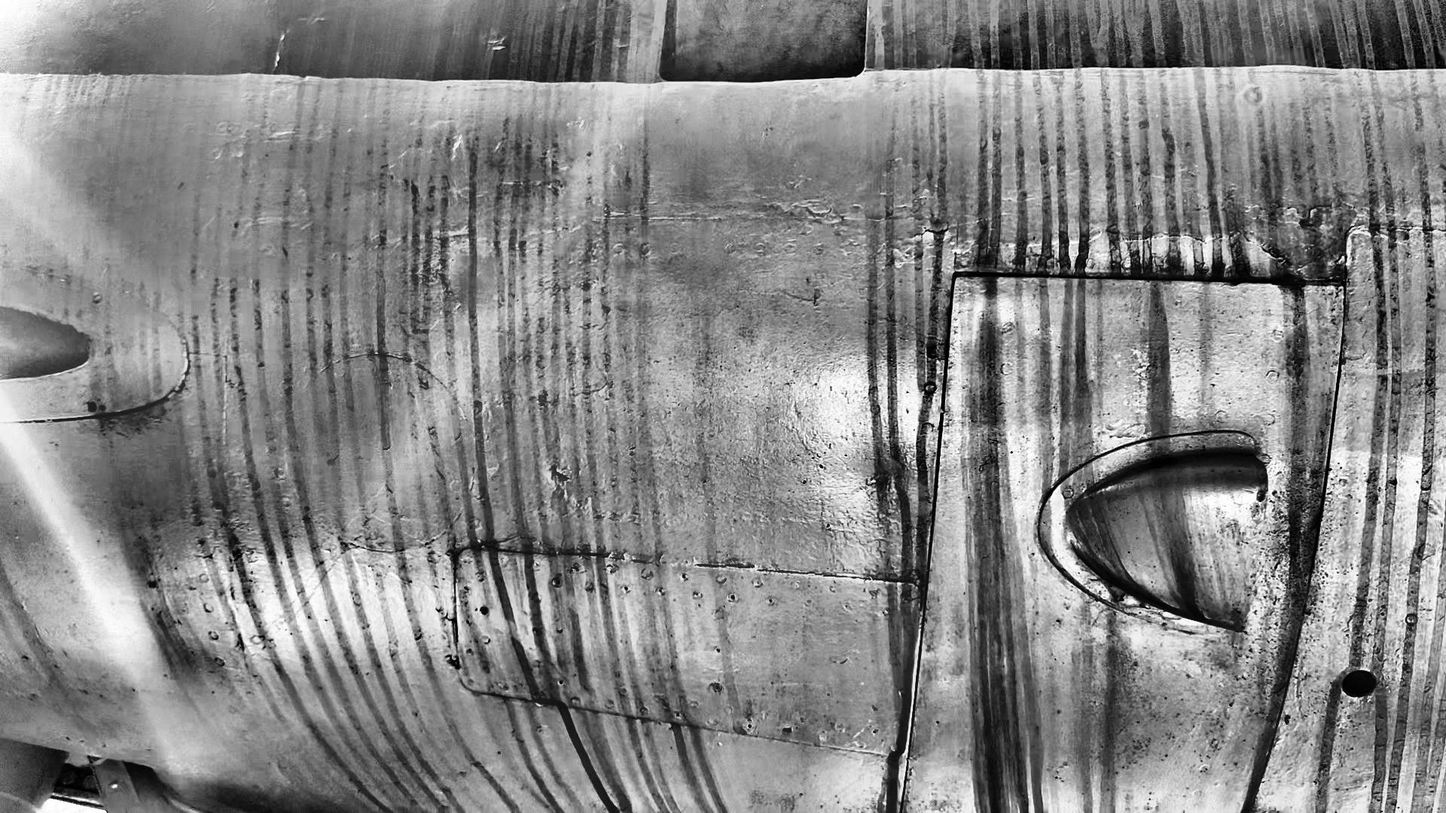crack: (1122, 233, 1292, 265), (911, 227, 949, 238)
missing-head: (93, 291, 105, 304), (86, 402, 98, 412), (552, 577, 563, 587), (728, 592, 737, 602), (479, 606, 490, 614), (680, 572, 688, 581), (623, 585, 631, 593)
paint-peel-off: (141, 398, 170, 419), (548, 467, 568, 483)
scratch: (482, 533, 558, 556)
